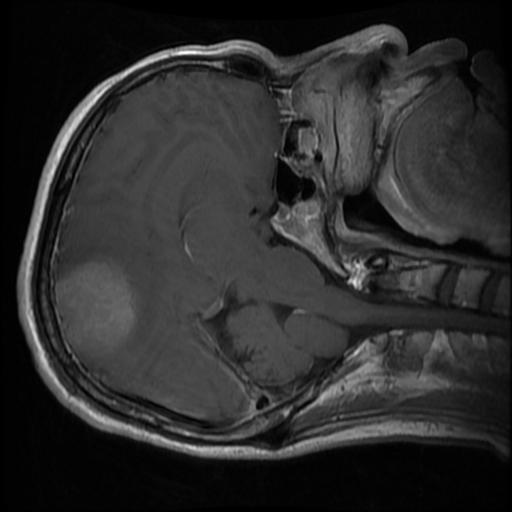meningioma: (56, 258, 136, 362)
